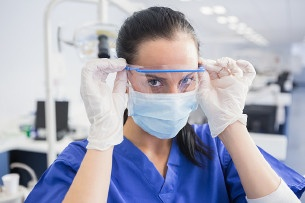Mask: (130, 65, 201, 137)
